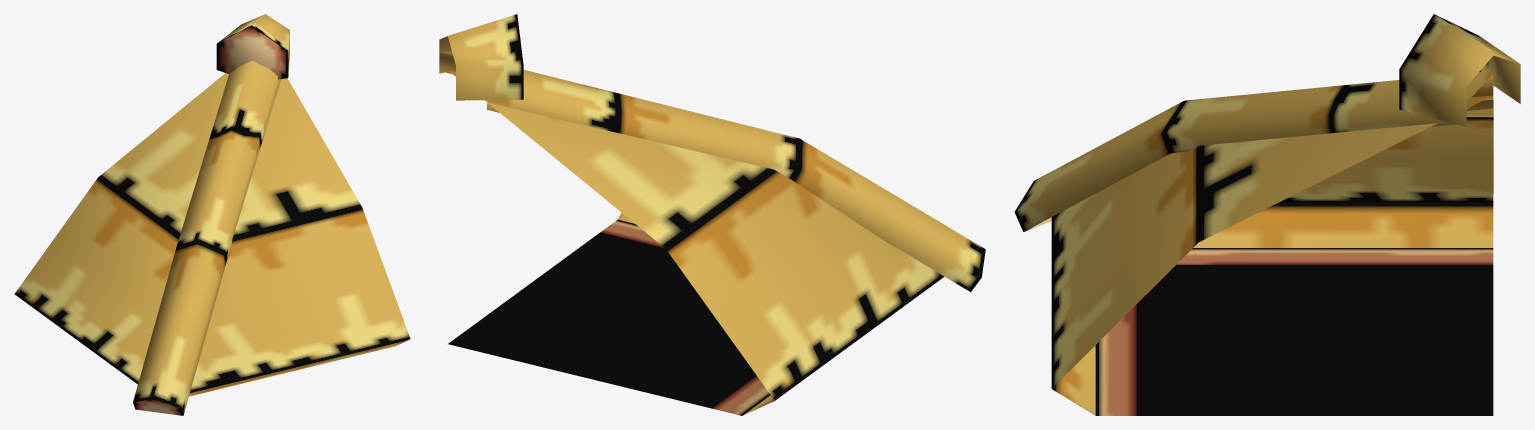
The model's file is arch_roof_cornerHalf_straw.FBX.
3 views of the same model, side by side, from view 1: azimuth 30°, elevation 25°; view 2: azimuth 150°, elevation 25°; view 3: azimuth 270°, elevation 25° (orthographic). The views are drawn at different scales.
Parts seen in each view (by area): view 1: arch_roof_cornerHalf_straw; view 2: arch_roof_cornerHalf_straw; view 3: arch_roof_cornerHalf_straw.
Boxes of the visible parts, x1,y1,x2,y2 form: arch_roof_cornerHalf_straw: (14,14,410,415); arch_roof_cornerHalf_straw: (439,14,985,415); arch_roof_cornerHalf_straw: (1014,14,1520,415).
Bounding box in the file's own units: 2.85 × 2.35 × 2.86.
Materials: 1 (1 with a texture image).
